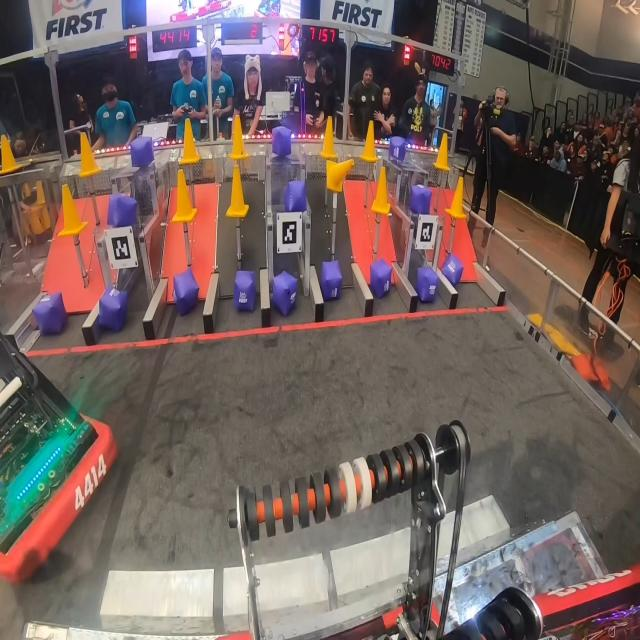robot: (0, 328, 118, 586), (533, 564, 639, 640)
